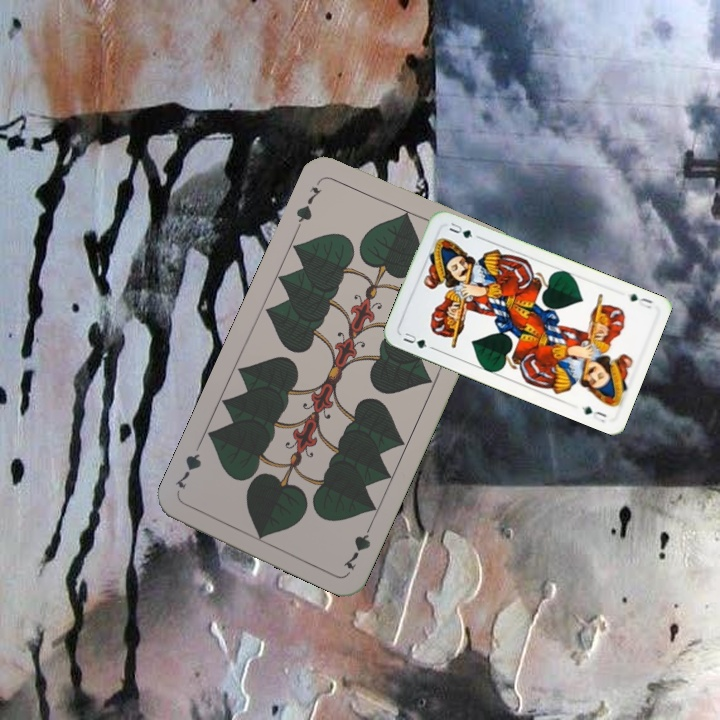G7: (339, 517, 376, 573), (292, 182, 325, 231)
GU: (399, 329, 430, 351), (626, 289, 656, 311)
